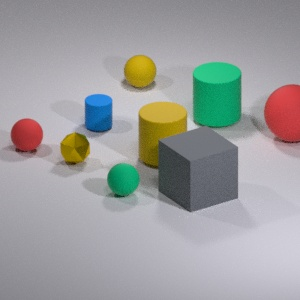lapphuong: (151, 124, 245, 216)
lucgiac: (56, 129, 95, 171)
tron: (260, 75, 300, 149), (5, 113, 46, 158), (105, 159, 139, 204), (123, 54, 160, 88)
tru: (186, 57, 246, 131), (133, 99, 188, 173), (83, 89, 114, 137)
